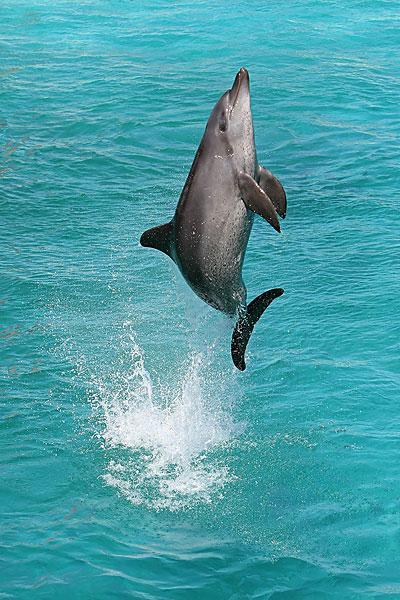fish: (139, 62, 289, 372)
